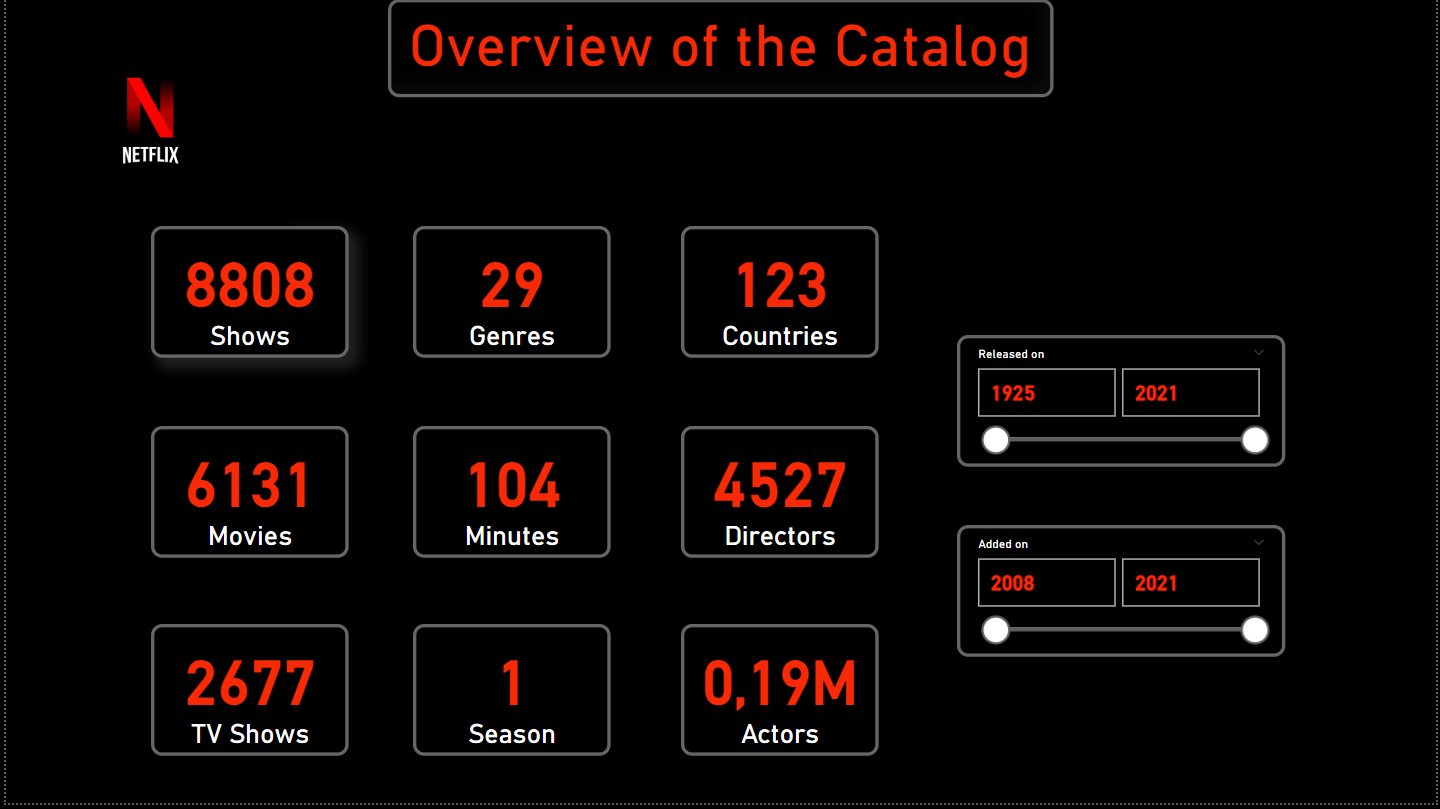

The page's visual inventory and layout, read from the dashboard file:
{"tool":"powerbi","page":{"name":"Overview","canvas":[1280,720],"ordinal":1},"visuals":[{"type":"card","fields":{"Values":["Count(netflix.show_id)"]},"box":[129.9,203.3,177.3,118.2],"z":0},{"type":"card","fields":{"Values":["Count(netflix.show_id)"]},"box":[129.9,382.4,177.3,118.2],"z":1000},{"type":"card","fields":{"Values":["Count(netflix.show_id)"]},"box":[129.9,559.7,177.3,118.2],"z":2000},{"type":"card","fields":{"Values":["Count(netflix.country)"]},"box":[604.5,203.3,177.3,118.2],"z":3000},{"type":"card","fields":{"Values":["Count(netflix.director)"]},"box":[604.5,382.4,177.3,118.2],"z":4000},{"type":"card","fields":{"Values":["Median(netflix.duration_Min)"]},"box":[364.5,382.4,177.3,118.2],"z":5000},{"type":"card","fields":{"Values":["Median(netflix.duration_Seasons)"]},"box":[364.5,559.7,177.3,118.2],"z":6000},{"type":"textbox","box":[342.1,0,595.5,87.8],"z":7000},{"type":"image","box":[0,0,258.8,219.4],"z":8000},{"type":"card","fields":{"Values":["CountNonNull(netflix.cast)"]},"box":[604.5,559.7,177.3,118.2],"z":9000},{"type":"slicer","fields":{"Values":["netflix.date_added.Variation.Hiérarchie de dates.Année"]},"box":[851.6,471,293.7,118.2],"z":10000},{"type":"slicer","fields":{"Values":["netflix.release_year.Variation.Hiérarchie de dates.Année"]},"box":[851.6,300.9,293.7,118.2],"z":11000},{"type":"card","fields":{"Values":["Count(netflix.listed_in)"]},"box":[364.5,203.3,177.3,118.2],"z":12000}]}

Visuals, with their boxes in screenshot pixels (x1, y1, x2, y2), scaled from the page's 1280x720 canvas onto the 1440x809 screenshot:
card - Count(netflix.show_id): region(146, 228, 346, 361)
card - Count(netflix.show_id): region(146, 430, 346, 562)
card - Count(netflix.show_id): region(146, 629, 346, 762)
card - Count(netflix.country): region(680, 228, 880, 361)
card - Count(netflix.director): region(680, 430, 880, 562)
card - Median(netflix.duration_Min): region(410, 430, 610, 562)
card - Median(netflix.duration_Seasons): region(410, 629, 610, 762)
textbox: region(385, 0, 1055, 99)
image: region(0, 0, 291, 247)
card - CountNonNull(netflix.cast): region(680, 629, 880, 762)
slicer - netflix.date_added.Variation.Hiérarchie de dates.Année: region(958, 529, 1288, 662)
slicer - netflix.release_year.Variation.Hiérarchie de dates.Année: region(958, 338, 1288, 471)
card - Count(netflix.listed_in): region(410, 228, 610, 361)
